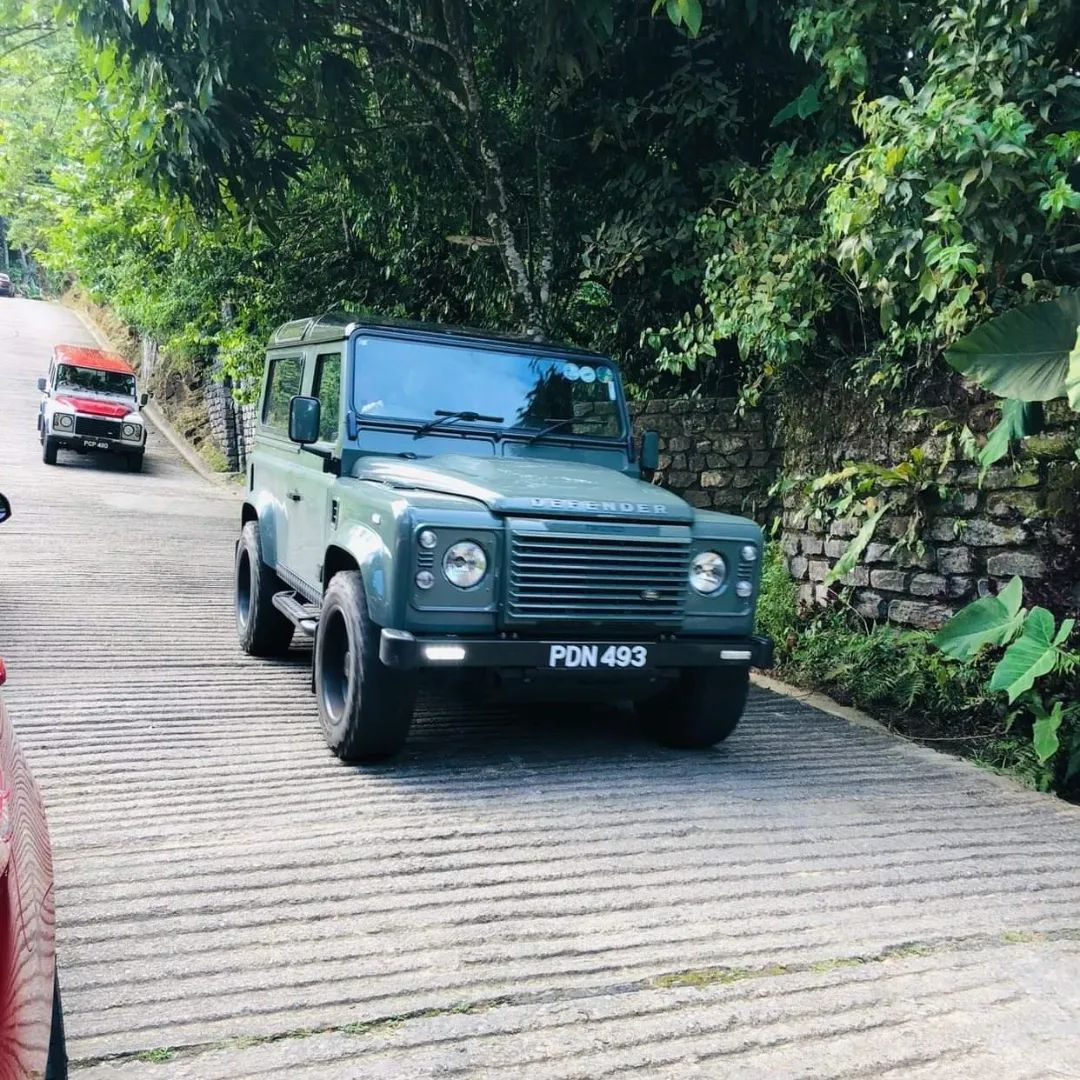License-Plate: (541, 642, 653, 669), (81, 438, 111, 446)
